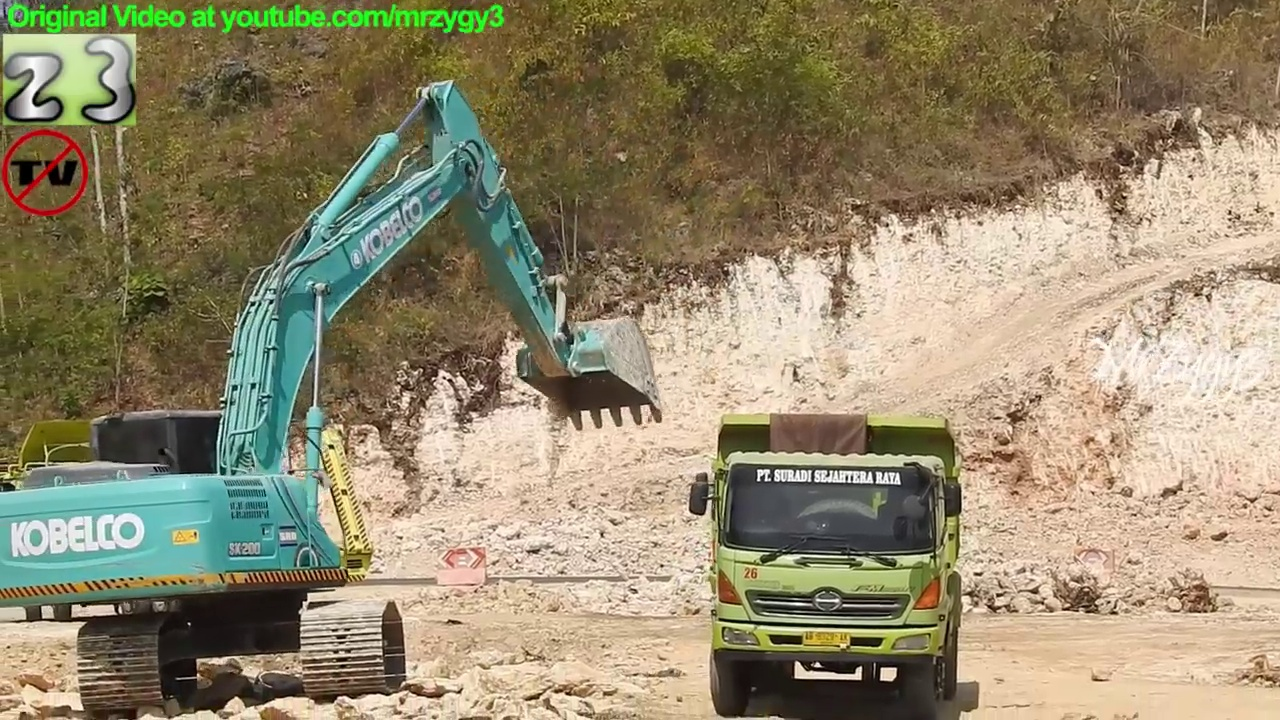excavator: (1, 78, 672, 720)
truck: (685, 410, 972, 720), (1, 412, 378, 621)
